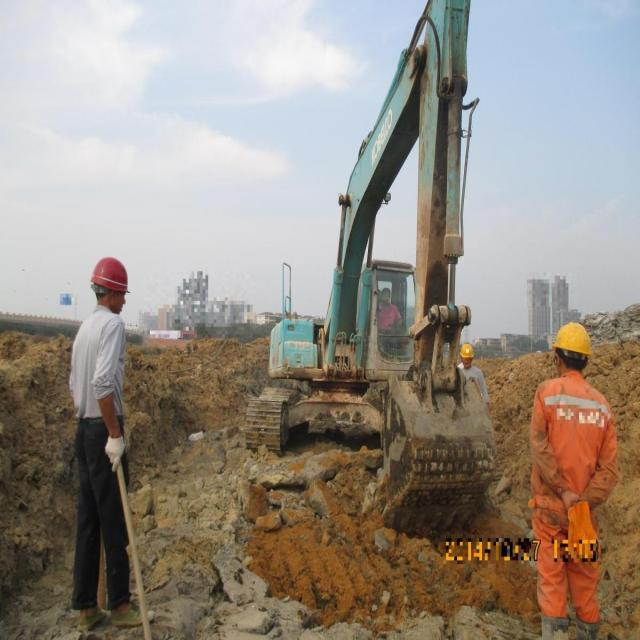excavator: (229, 0, 508, 523)
